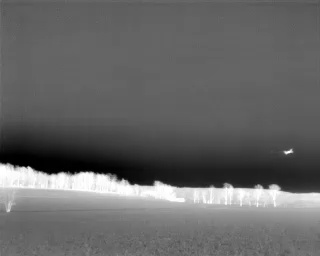DRONE: (279, 144, 299, 161)
